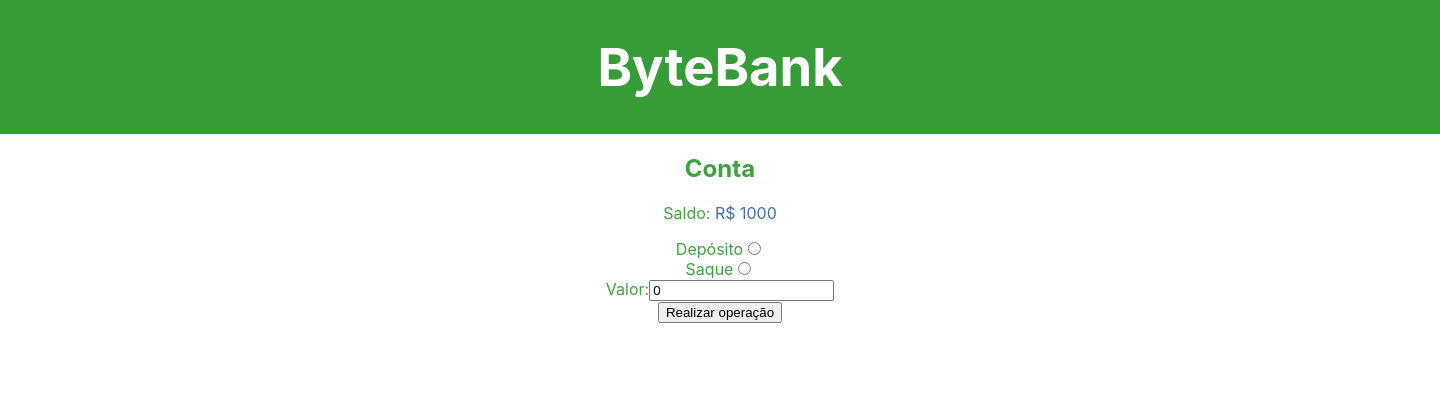
Test case: Componente Principal › quando eu realizo uma transação › que é um deposito, a transação deve ser realizada
This screenshot has width=1440, height=394.
expect the text with test id "saldo-conta" reads "R$ 1000": met, box [715,203,777,223]
Click the radio button labelled "Depósito": {"x": 755, "y": 248} [748,242,761,255]
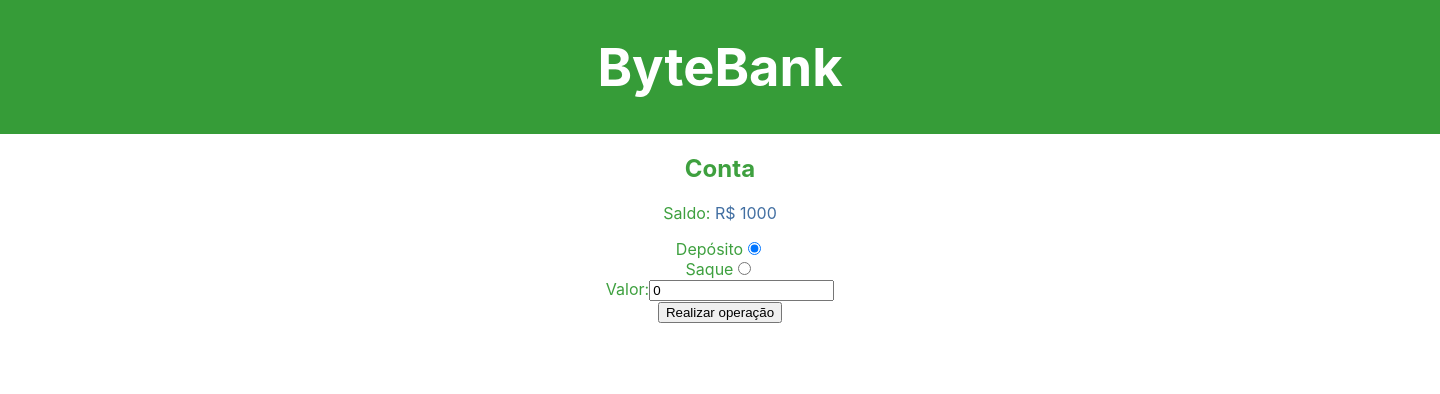
Replace the text in the field with test id "valor" with "100": {"x": 742, "y": 290} [649,280,834,301]
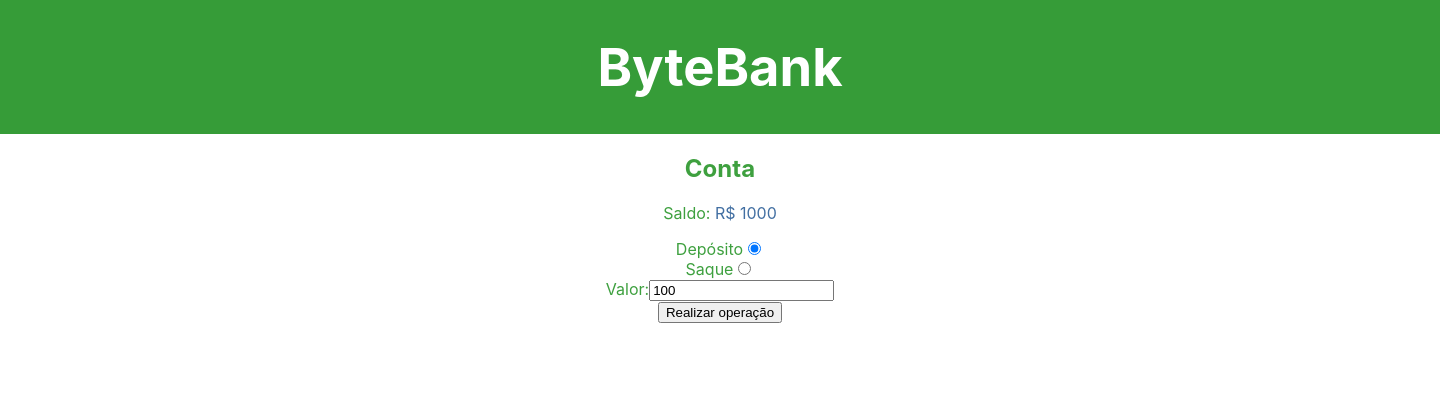
Click the button "Realizar operação": {"x": 720, "y": 312} [658,302,782,323]
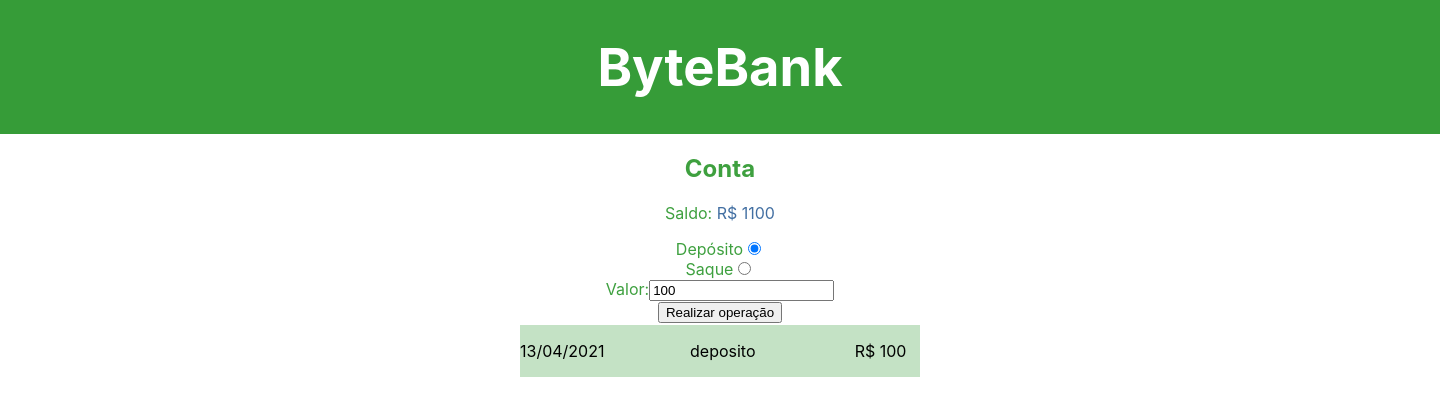
expect the text with test id "saldo-conta" reads "R$ 1100": met, box [717,203,775,223]
